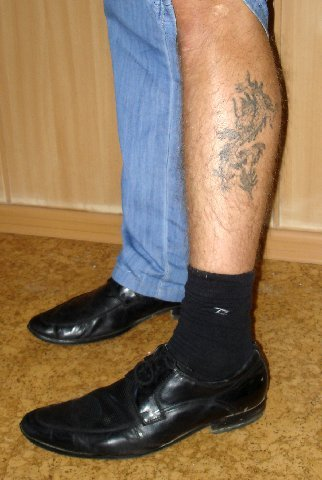tatu6_drakon: (213, 63, 283, 214)
